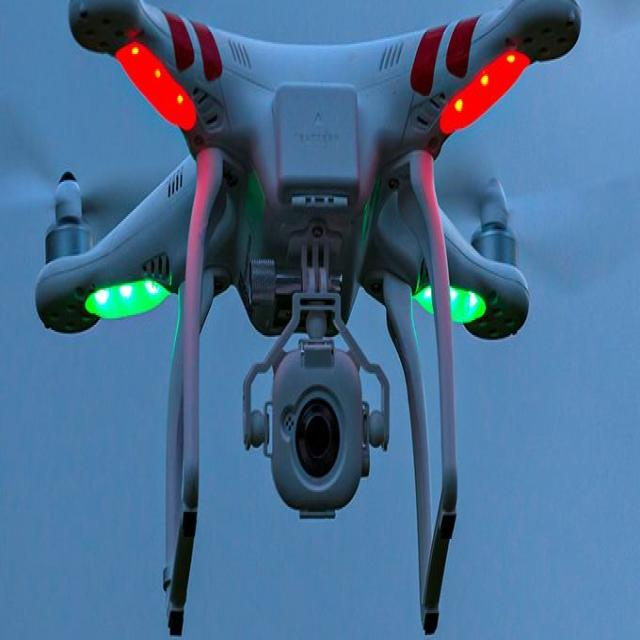drone: (20, 1, 640, 408)
